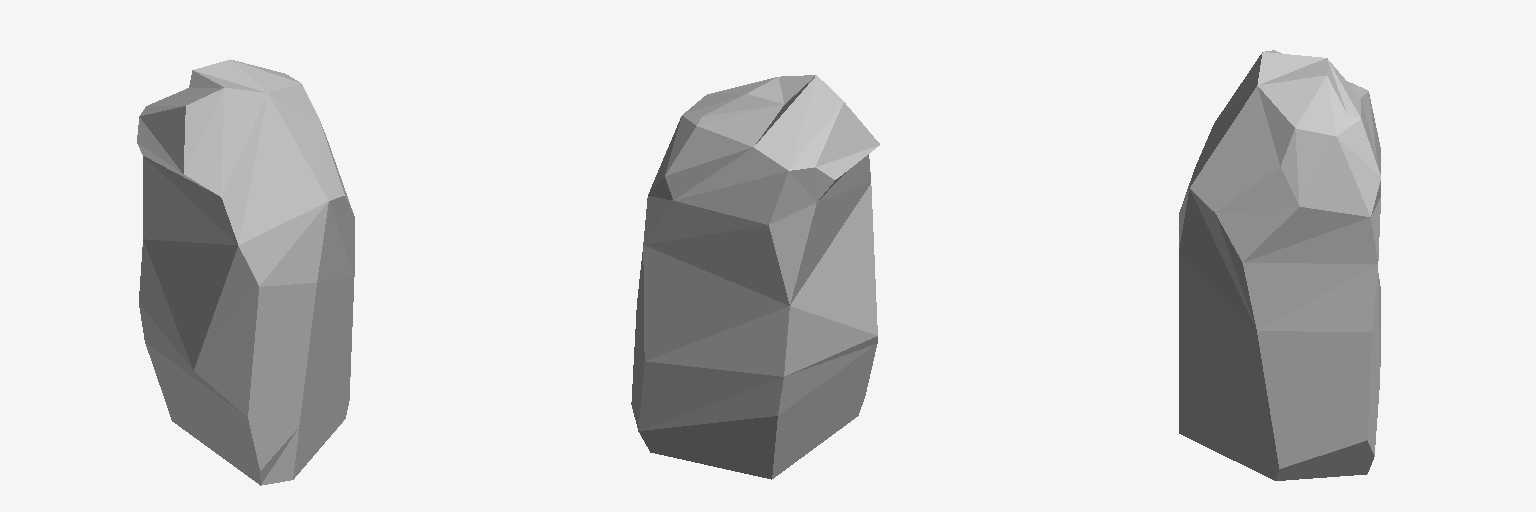
The model's file is Rock.01.obj.
3 views of the same model, side by side, from view 1: azimuth 30°, elevation 25°; view 2: azimuth 150°, elevation 25°; view 3: azimuth 270°, elevation 25° (orthographic).
Visible parts, largest first — view 1: Cube_low; view 2: Cube_low; view 3: Cube_low.
Part boxes in pixels (bbox=[...]): Cube_low: bbox=[137, 59, 354, 485]; Cube_low: bbox=[631, 75, 879, 479]; Cube_low: bbox=[1179, 50, 1380, 480].
Bounding box in the file's own units: 3.08 × 5.82 × 2.9.